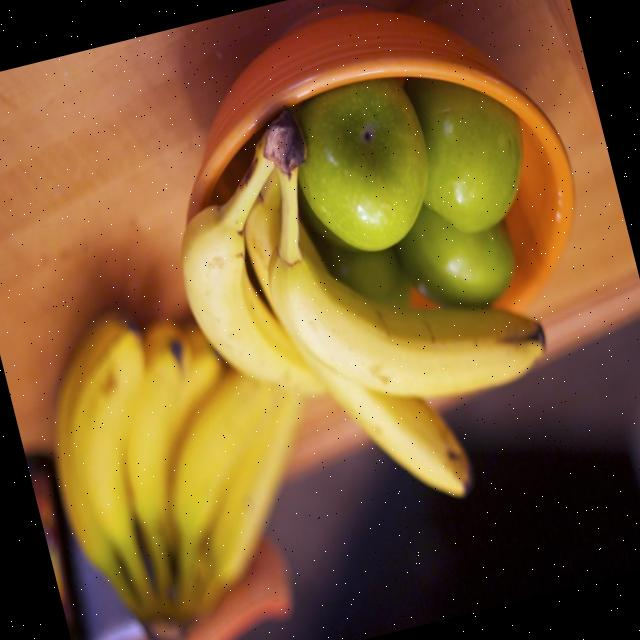banana: (264, 168, 544, 395), (179, 183, 324, 394)
